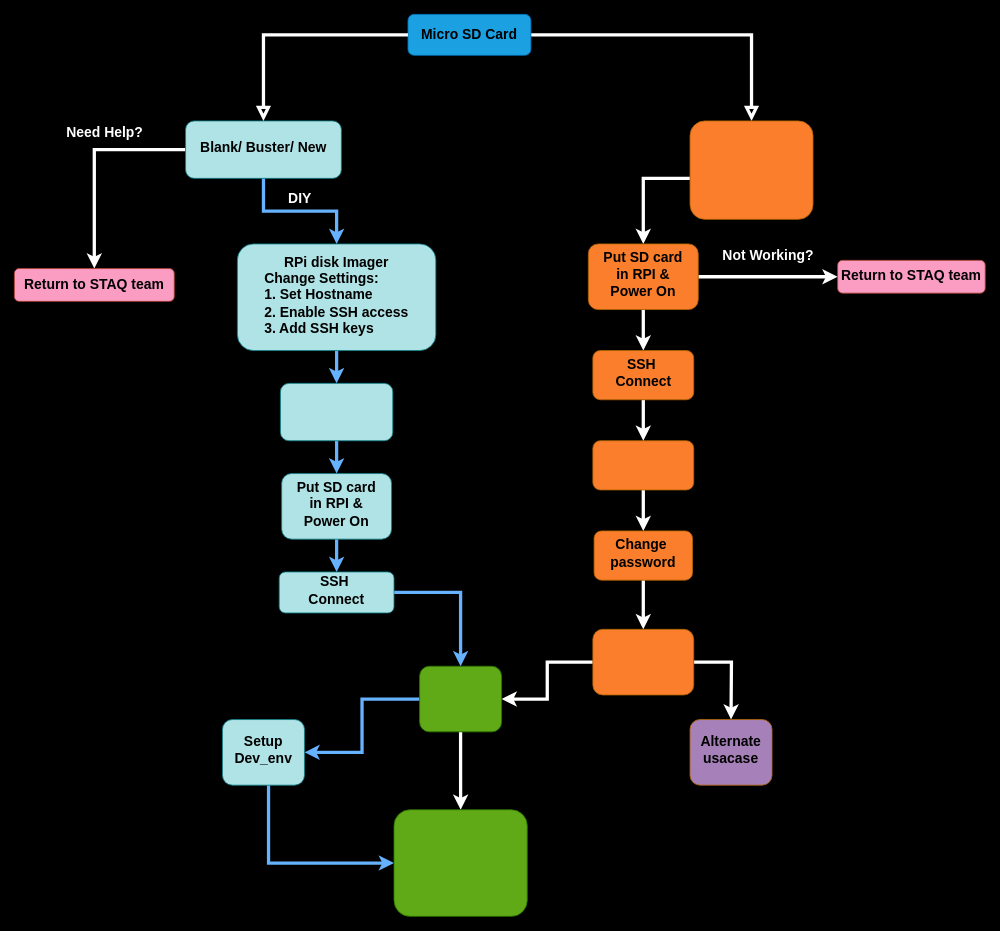
The diagram is 1000 pixels wide and 931 high, and some of its shapes have lost their labels. The shapes that lost their labels are listed below. From the top down, each one's centre as x and y in pixels, then its label:
the point at 751,169: Provisioned by STAQ Team
the point at 336,412: Burn Bookworm image
the point at 643,465: Change hostname
the point at 643,662: Setup ssh ssh-copy-id
the point at 460,698: Clone yk_design
the point at 460,862: START WORK
